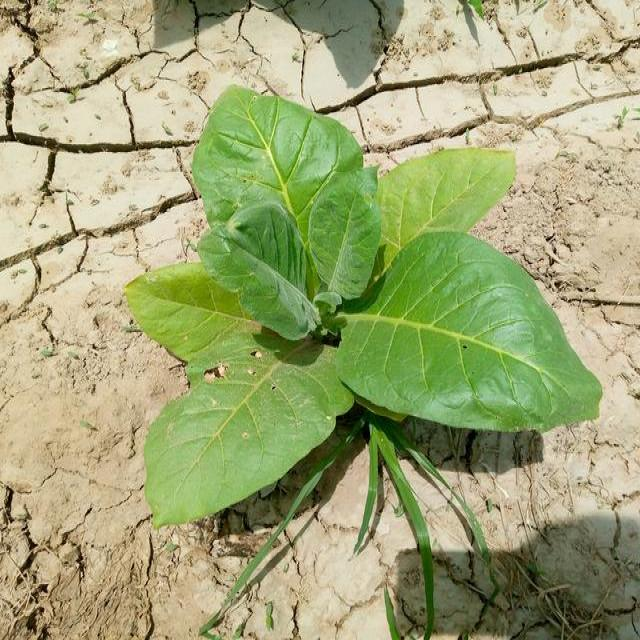crop: (122, 81, 603, 527)
